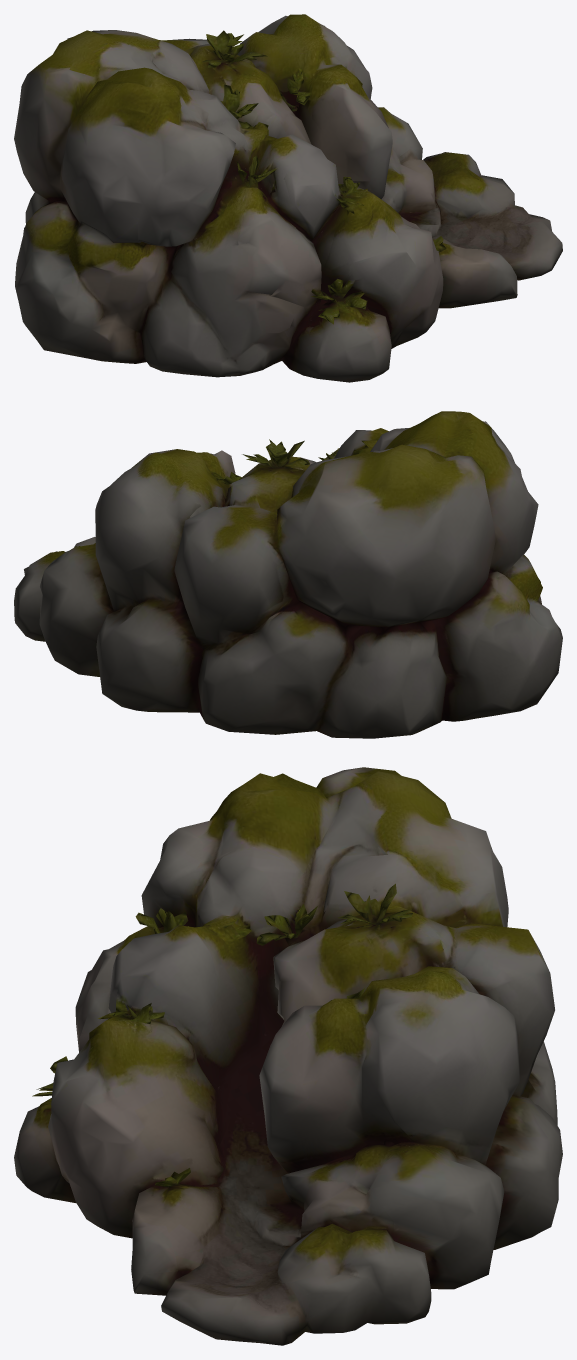
The model's file is spring_source.glb.
3 views of the same model, one above another, from view 1: azimuth 30°, elevation 25°; view 2: azimuth 150°, elevation 25°; view 3: azimuth 270°, elevation 25° (orthographic). The views are drawn at different scales.
Parts seen in each view (by area): view 1: tripo_node_4ae07331-c88c-4065-aa53-5e3eaa72fd9e; view 2: tripo_node_4ae07331-c88c-4065-aa53-5e3eaa72fd9e; view 3: tripo_node_4ae07331-c88c-4065-aa53-5e3eaa72fd9e.
Boxes of the visible parts, x1=… form: tripo_node_4ae07331-c88c-4065-aa53-5e3eaa72fd9e: x1=14, y1=14, x2=562, y2=382; tripo_node_4ae07331-c88c-4065-aa53-5e3eaa72fd9e: x1=14, y1=411, x2=562, y2=738; tripo_node_4ae07331-c88c-4065-aa53-5e3eaa72fd9e: x1=14, y1=767, x2=562, y2=1345.
Bounding box in the file's own units: 0.9773 × 0.4928 × 0.7463.
Materials: 1 (1 with a texture image).
